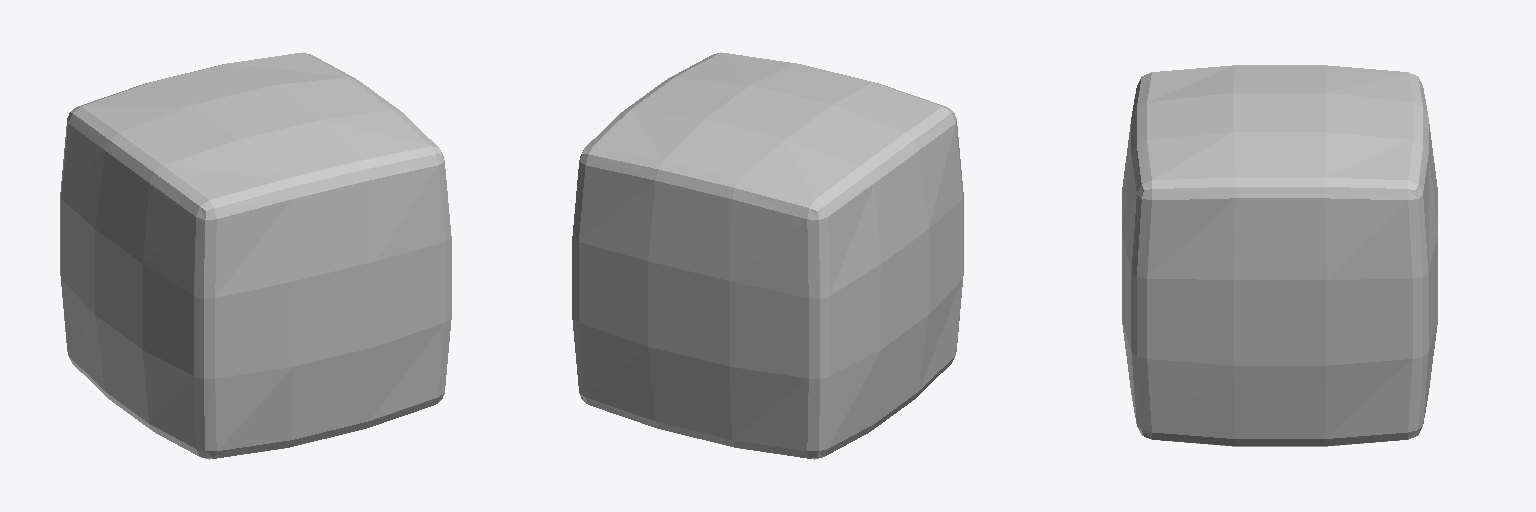
The model's file is floor2.obj.
3 renders of one model, left to right at view 1: azimuth 30°, elevation 25°; view 2: azimuth 150°, elevation 25°; view 3: azimuth 270°, elevation 25°, orthographic.
Visible parts, largest first — view 1: Cube_meshId0_name; view 2: Cube_meshId0_name; view 3: Cube_meshId0_name.
Part boxes in pixels (x1,y1,x2,y2): Cube_meshId0_name: (60,52,451,459); Cube_meshId0_name: (572,52,963,459); Cube_meshId0_name: (1122,65,1437,446).
Bounding box in the file's own units: 200 × 200 × 200.